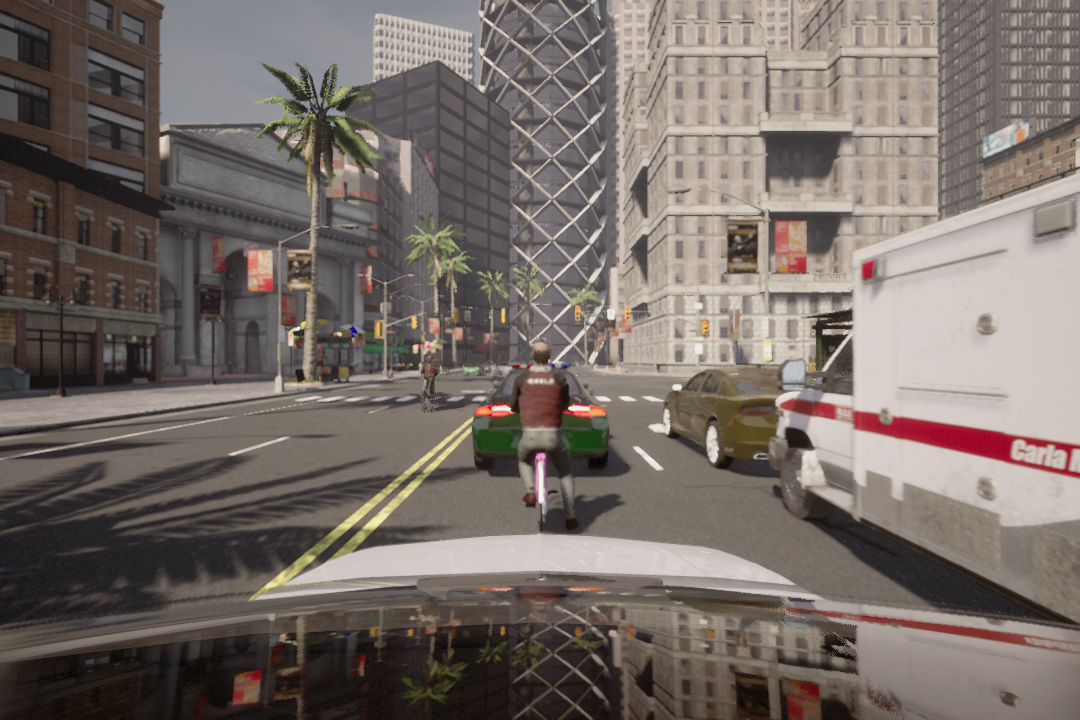walkside: (293, 389, 687, 407)
